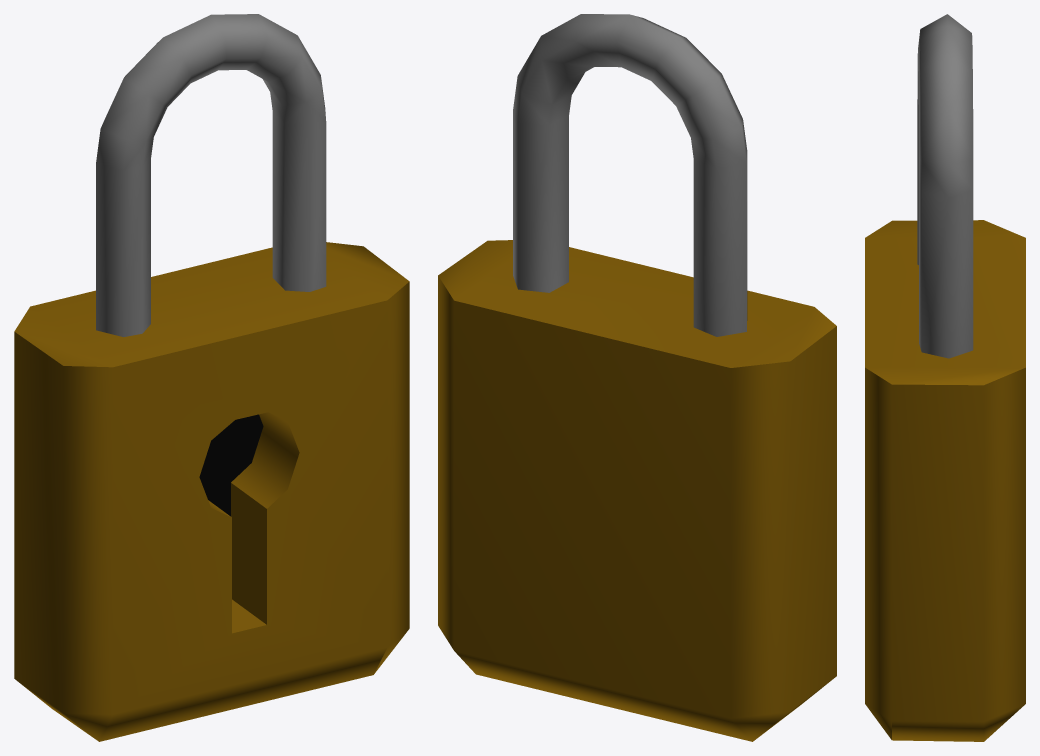
Rendered from Lock.fbx.
3 views of the same model, side by side, from view 1: azimuth 30°, elevation 25°; view 2: azimuth 150°, elevation 25°; view 3: azimuth 270°, elevation 25° (orthographic). The views are drawn at different scales.
Parts seen in each view (by area): view 1: Lock; view 2: Lock; view 3: Lock.
Part boxes in pixels (x1=…): Lock: x1=14, y1=14, x2=409, y2=741; Lock: x1=438, y1=14, x2=836, y2=741; Lock: x1=865, y1=14, x2=1025, y2=741.
Bounding box in the file's own units: 0.5268 × 0.9705 × 0.2167.
